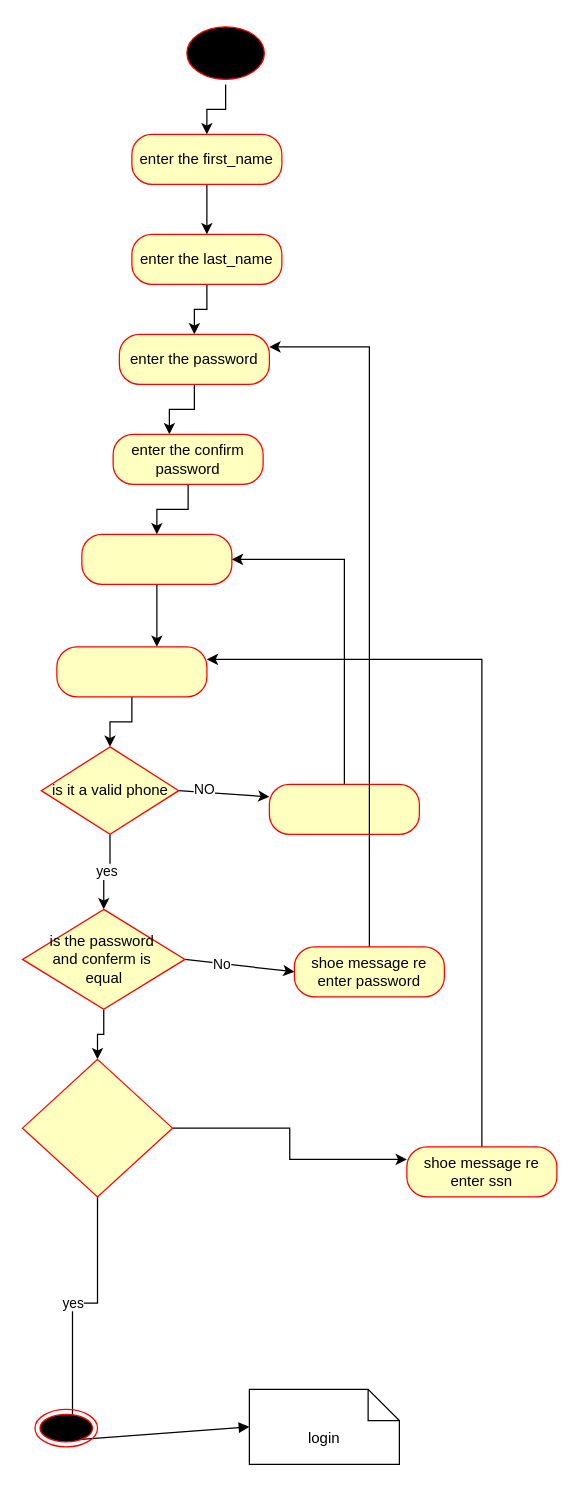
Image size: 579x1486. Some labels were removed from this diagram. Each missing label, with the box of its shape:
enter the phone number: (81, 533, 232, 584)
enter the ssn: (56, 646, 207, 697)
is the ssn valid and ssn is unique: (21, 1058, 172, 1197)
show message the phone is not valid: (268, 783, 419, 834)
